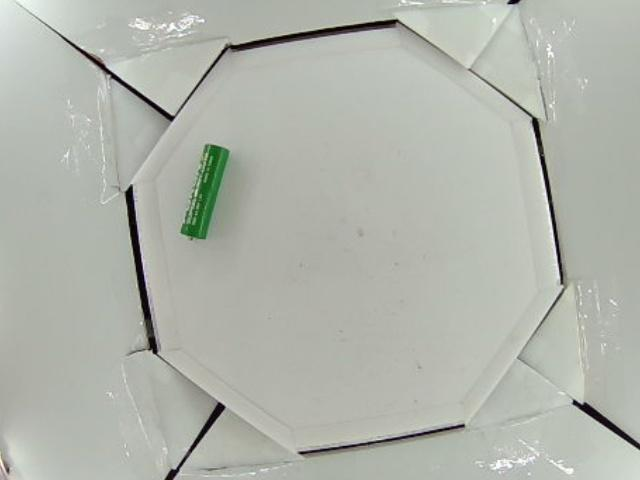Battery: (179, 143, 231, 241)
